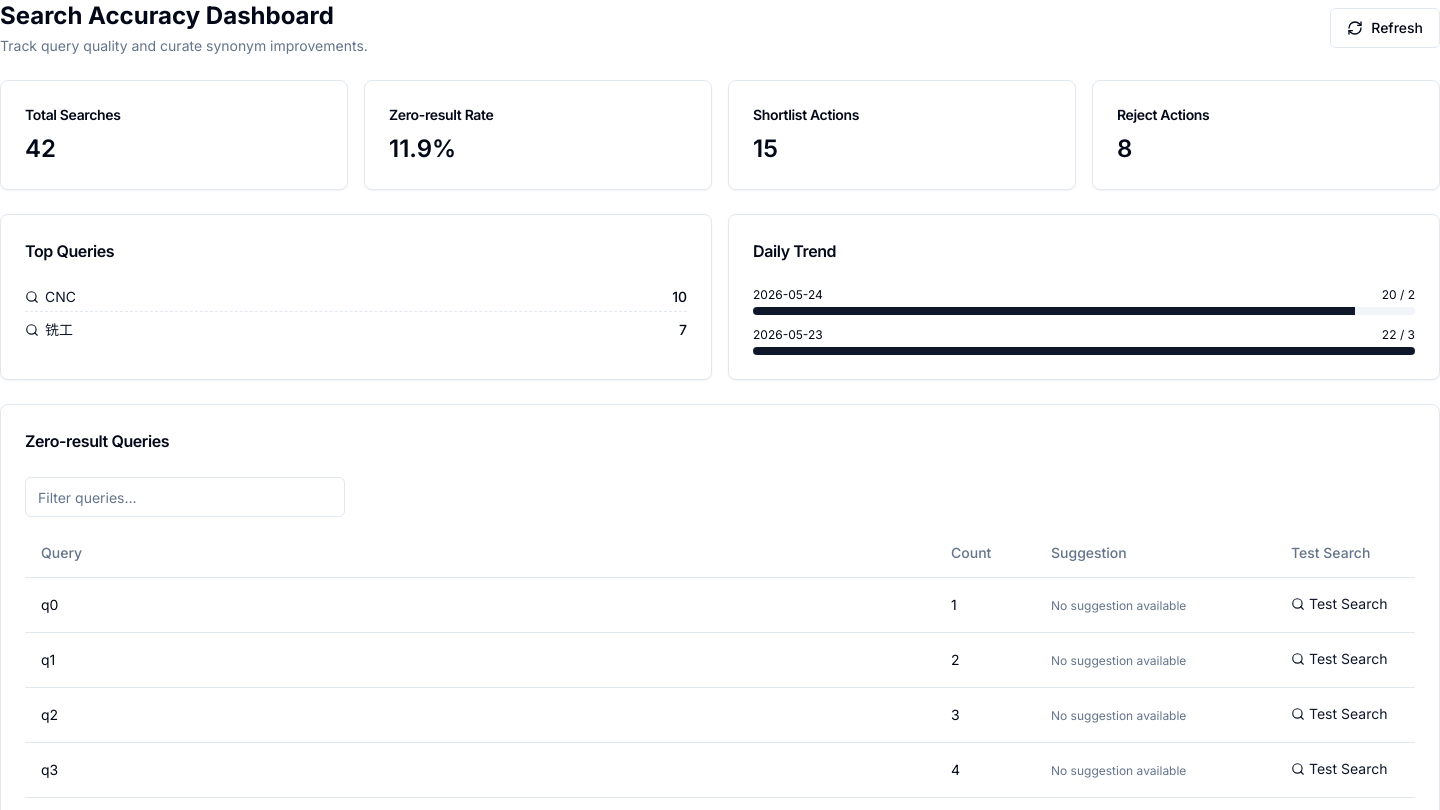
Test: SearchAnalyticsPage › clears the zero-result filter with the clear button
This screenshot has width=1440, height=810.
Expected: the text "q0" is shown, [25,577,935,632]
Type "q3" into the field with placeholder "Filter queries..." at coordinates (185, 497), box [25,477,345,517]
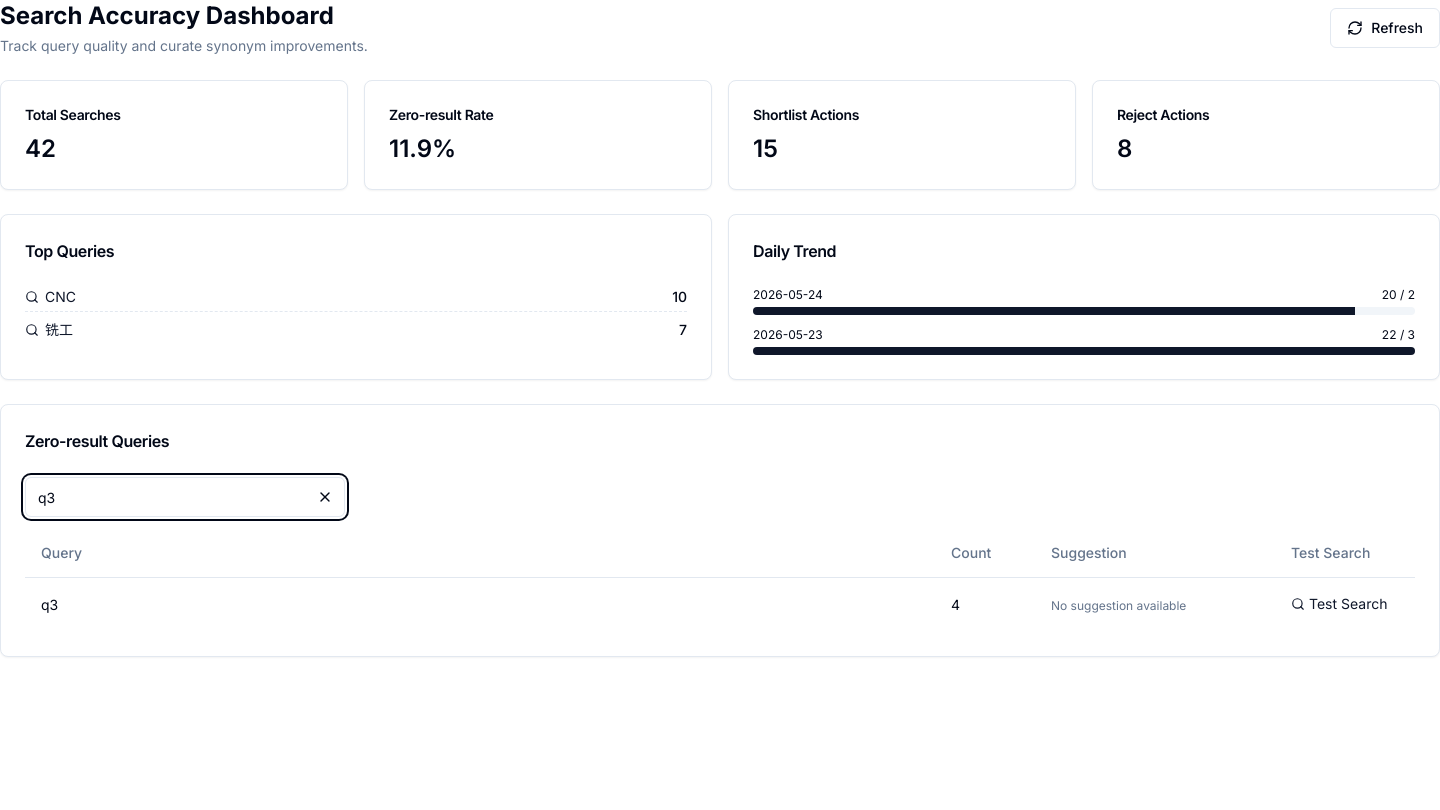
Expected: the text "q3" is shown, [25,577,935,632]
Now the text "q0" is gone
Click the button with test id "zero-result-clear-filter" at coordinates (325, 497), box [305,477,345,517]
(page scrolled)
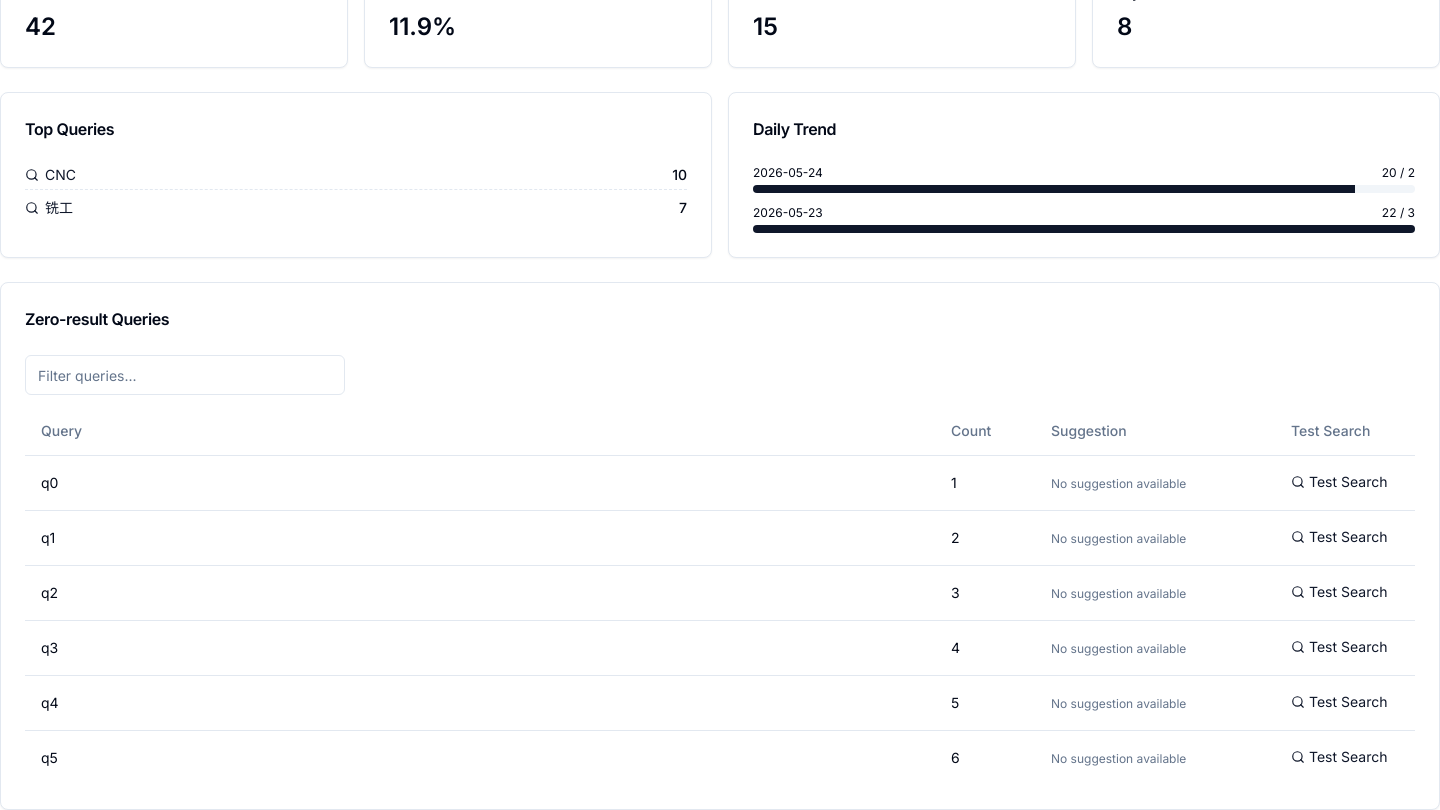
Now the field with placeholder "Filter queries..." is empty, box [25,355,345,395]
Now the text "q0" is shown, box [25,455,935,510]
Now the text "q5" is shown, box [25,730,935,784]
